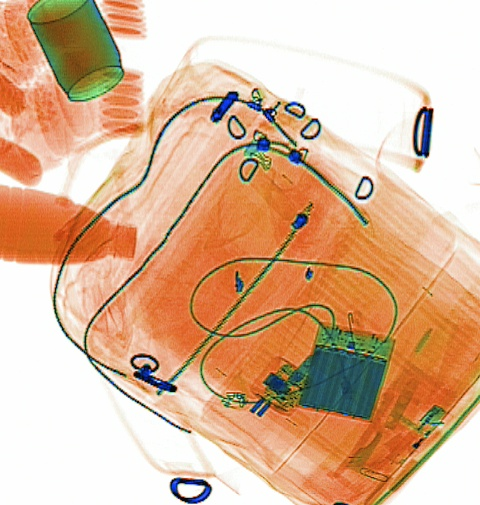lighter: (384, 400, 446, 466)
powerbank: (294, 319, 397, 423)
